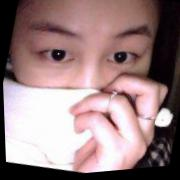WRONG: (1, 1, 169, 180)
